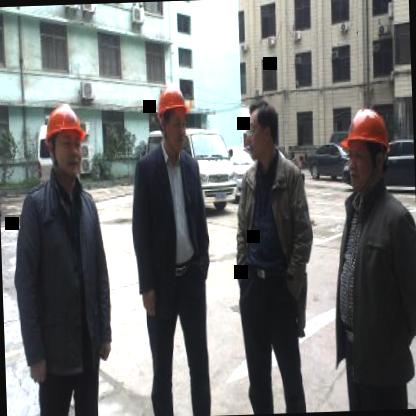helmet: (336, 104, 398, 192), (37, 97, 98, 183), (151, 71, 196, 155)
